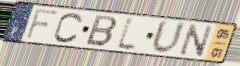B: (84, 14, 120, 48)
C: (52, 11, 85, 45)
F: (24, 8, 60, 41)
L: (114, 14, 141, 54)
N: (178, 22, 215, 58)
U: (150, 18, 188, 56)
